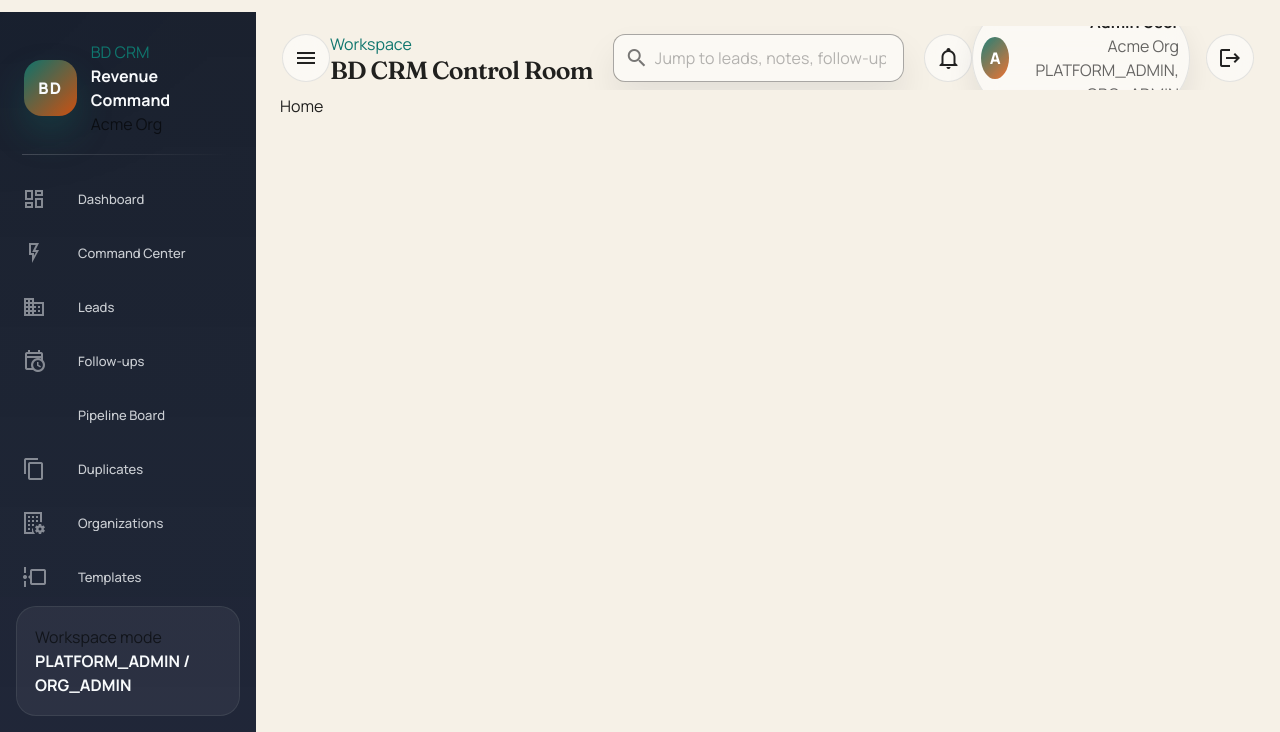
Test: AppLayout search › keeps the result panel open to show the empty state when nothing matches
Type "missing" into the field with placeholder "Jump to leads, notes, follow-ups" at (771, 58), box [649,34,892,82]
Wait 250 ms
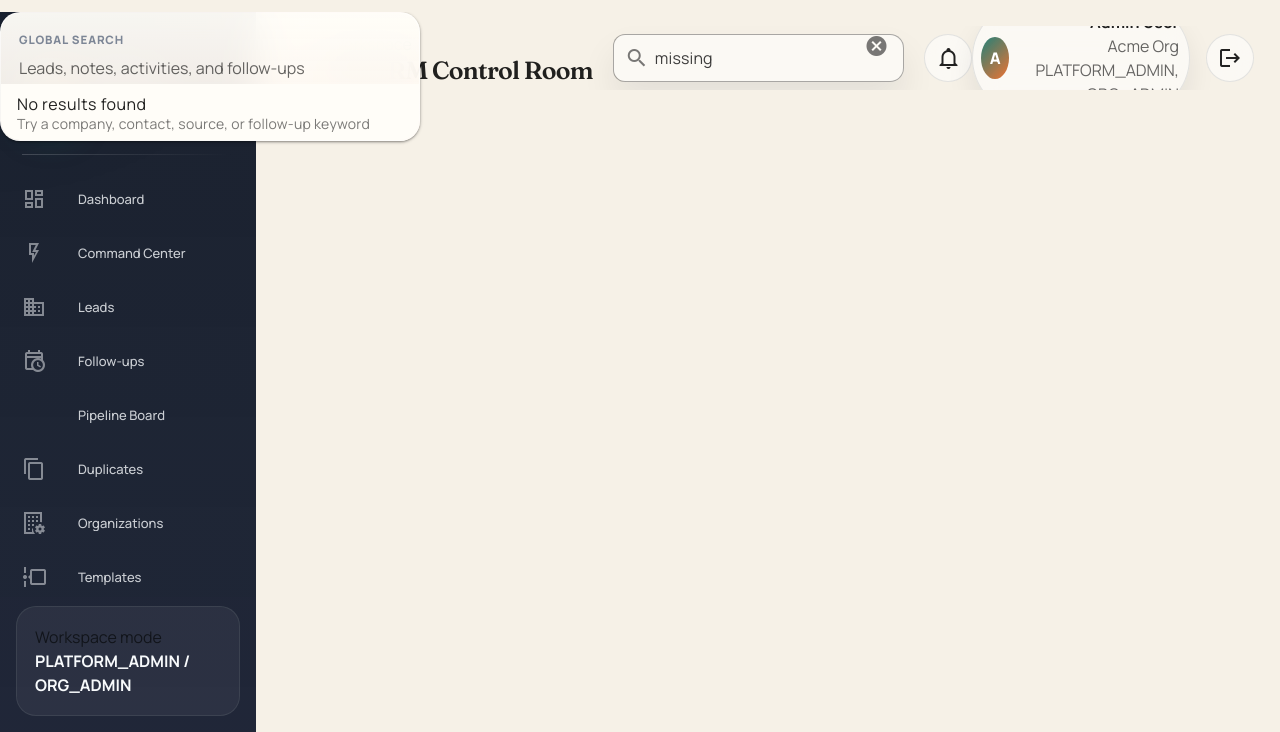
Check: the text "No results found" is shown, box [17,93,146,115]
